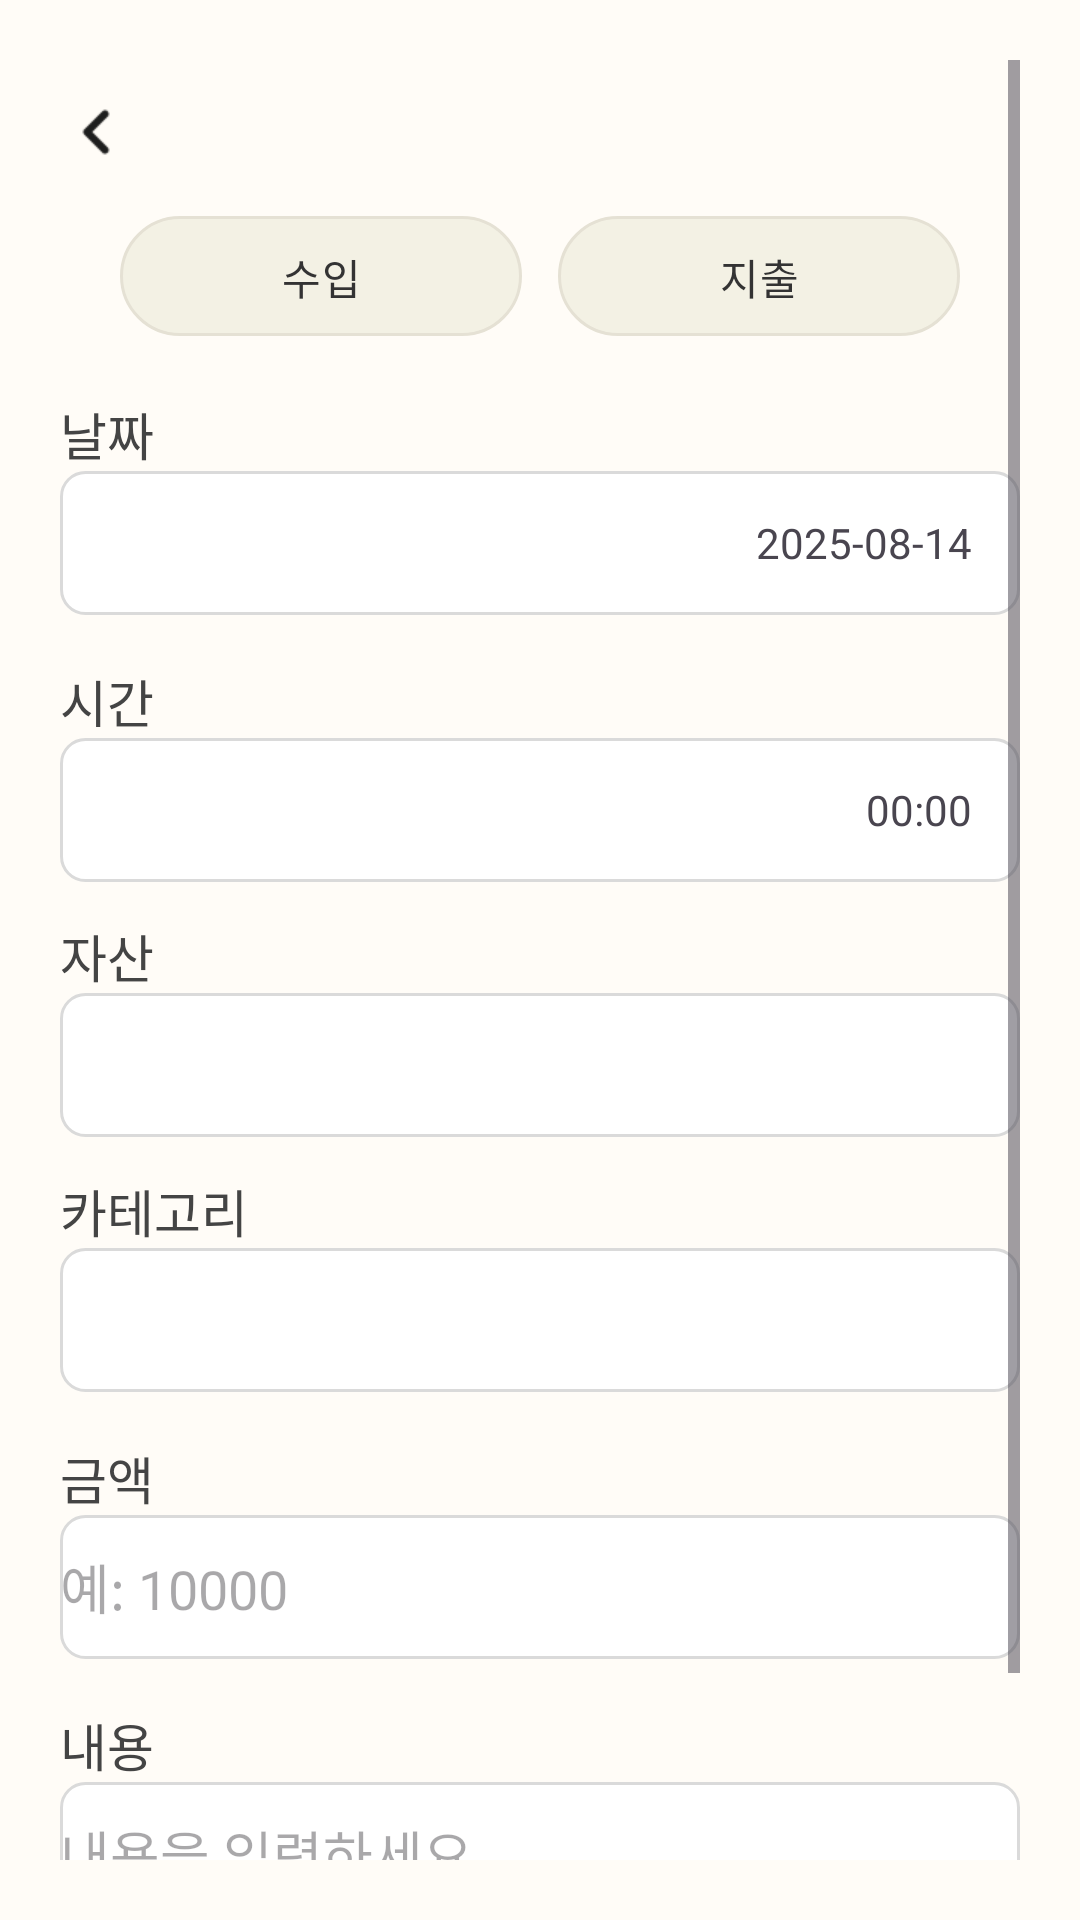

Screen size 1080 x 1920. Icon name, then its box in pixels as (x1, y1, x2, y2):
뒤로가기: (82, 109, 110, 155)
